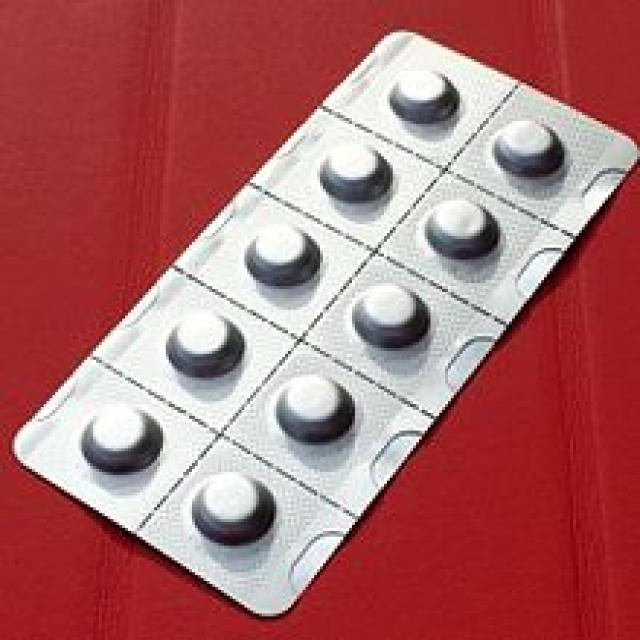Pill: (268, 374, 354, 448), (80, 400, 158, 478), (190, 469, 269, 545), (164, 310, 246, 381), (426, 194, 497, 264), (355, 284, 425, 352), (321, 137, 391, 204), (493, 116, 564, 180), (248, 222, 316, 288), (392, 66, 460, 124)
